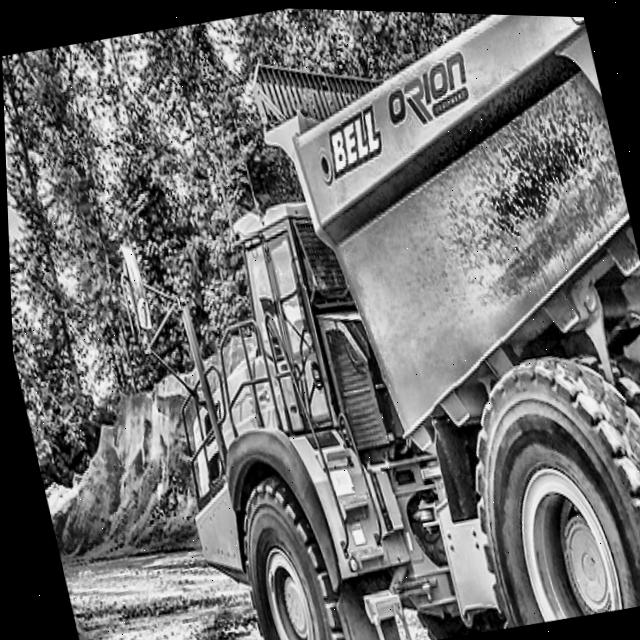dump_truck: (68, 2, 640, 640)
